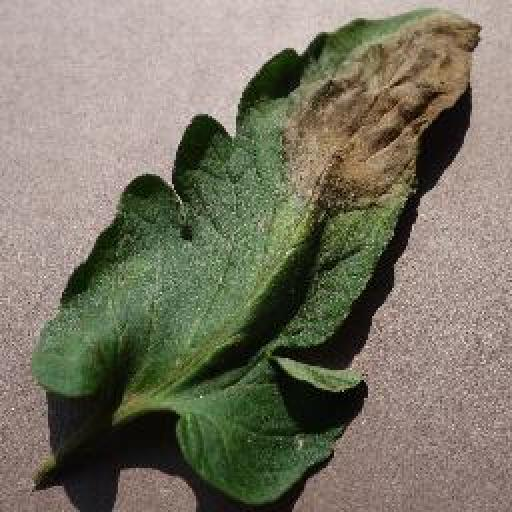disease_tomato: (32, 5, 485, 512)
